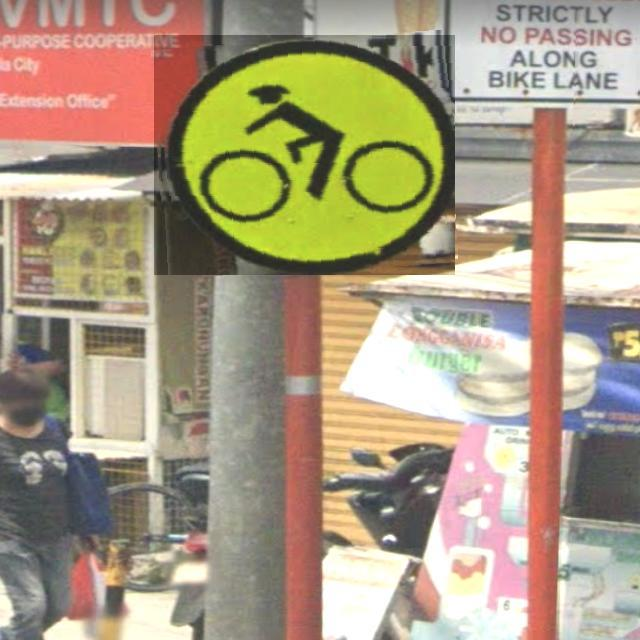bike lane: (154, 35, 455, 275)
